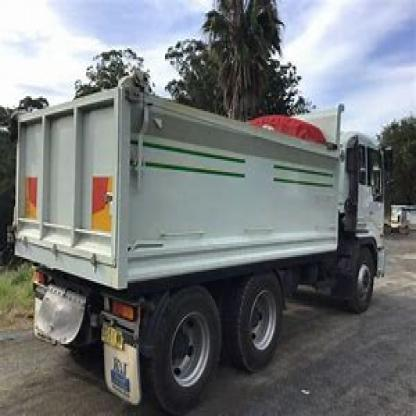dump_truck: (4, 61, 388, 398)
